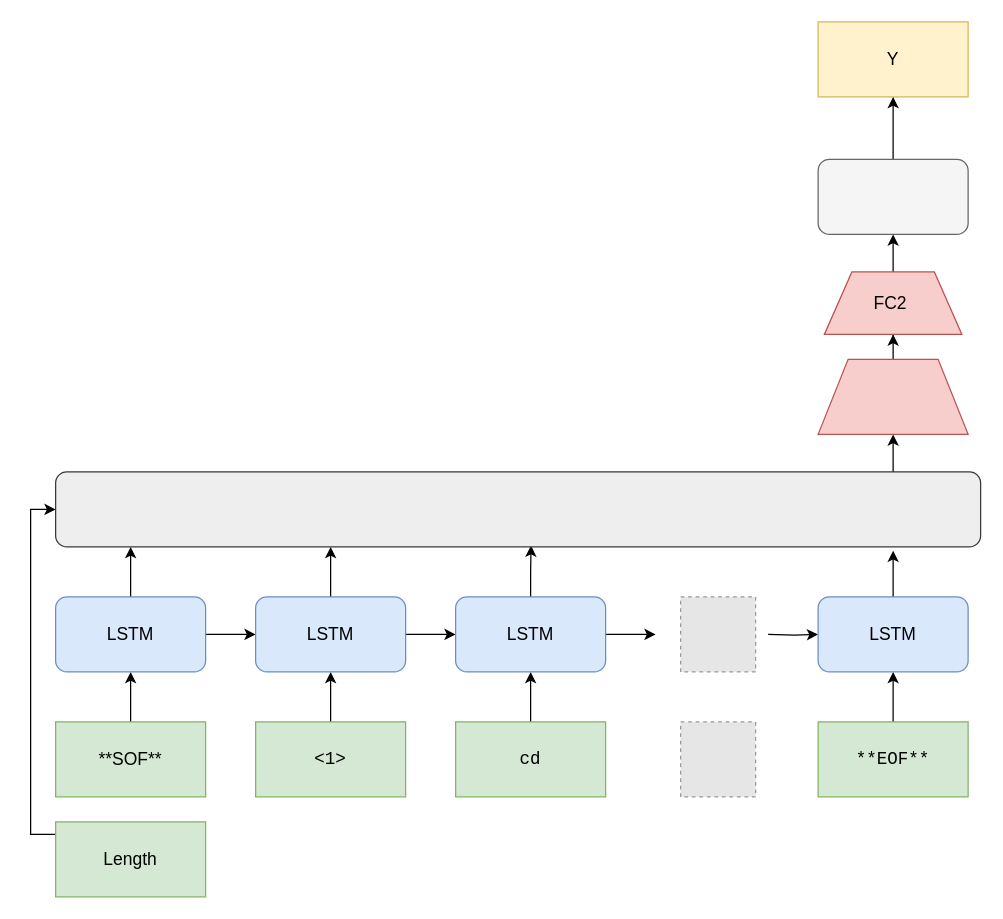
Image size: 1003x919. Some labels were removed from this diagram. Grey dashed boxes stand in for pictures. Here are the shapes that lost their labels. From the top down, the box of each, then its label:
(817, 158, 968, 234): Softmax
(817, 358, 968, 434): FC1
(54, 471, 981, 547): Mask
